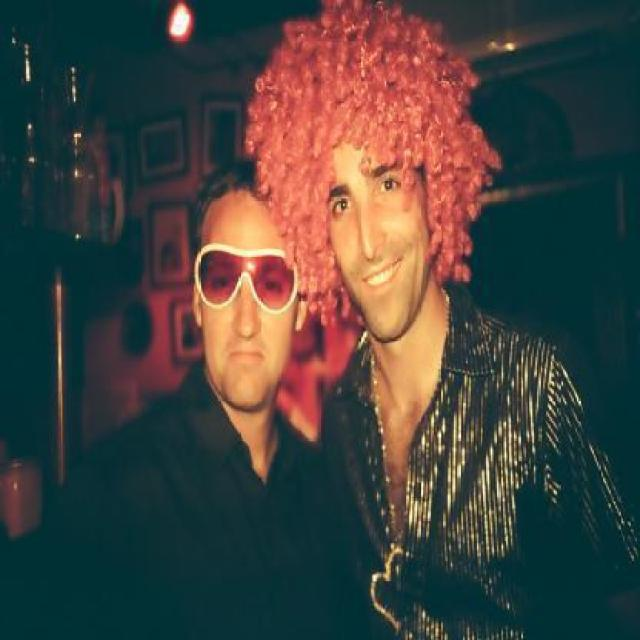face_nomask: (324, 162, 428, 307), (192, 245, 298, 381)
glasses: (192, 242, 300, 316)
head_nohelmet: (264, 68, 468, 184), (196, 167, 287, 227)
